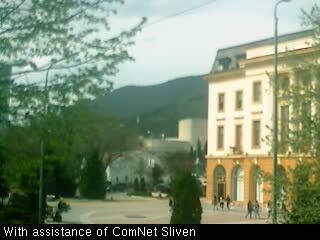person: (245, 200, 255, 220), (265, 200, 274, 219), (254, 201, 261, 219), (225, 195, 232, 210), (213, 195, 219, 212), (219, 195, 225, 210), (168, 199, 173, 216)
